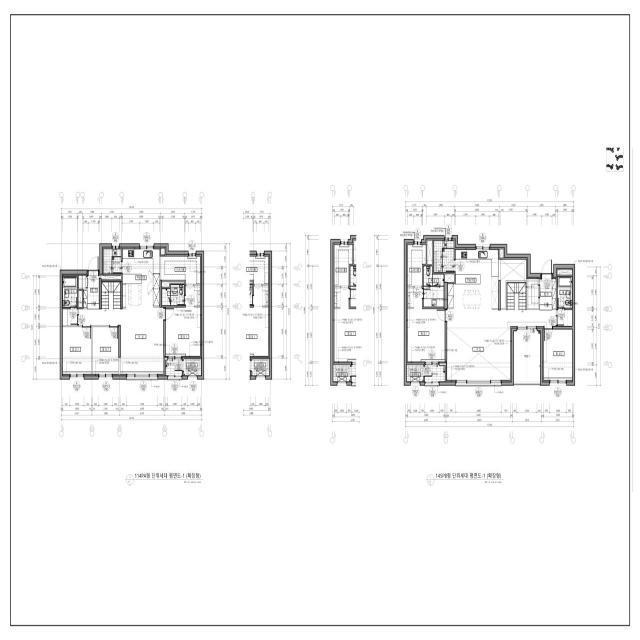space_balconi: (514, 331, 540, 382), (434, 241, 454, 272), (103, 249, 121, 274), (425, 366, 445, 382), (166, 359, 182, 375)
space_bedroom: (408, 287, 445, 362), (166, 286, 201, 356), (544, 329, 572, 380), (63, 327, 91, 374), (93, 327, 119, 374)
space_dressroom: (161, 256, 201, 285), (408, 245, 426, 286)
space_front: (83, 276, 99, 309), (540, 279, 556, 310)
space_kitchen: (448, 250, 498, 309), (122, 249, 160, 308)
space_living_room: (447, 309, 556, 380), (79, 307, 164, 374)
space_other: (500, 260, 526, 308), (507, 282, 527, 310), (101, 282, 121, 309), (528, 279, 539, 309), (63, 309, 78, 325), (557, 310, 572, 326), (427, 241, 432, 264), (162, 282, 184, 287), (101, 275, 121, 280), (79, 275, 86, 289), (557, 270, 572, 275), (445, 274, 454, 282), (79, 291, 82, 307), (500, 249, 503, 258), (161, 249, 165, 255)
space_outdoor_room: (183, 359, 201, 375), (407, 365, 423, 382)
space_toilet: (424, 266, 444, 307), (162, 285, 184, 305), (558, 277, 572, 308), (63, 277, 77, 307)
